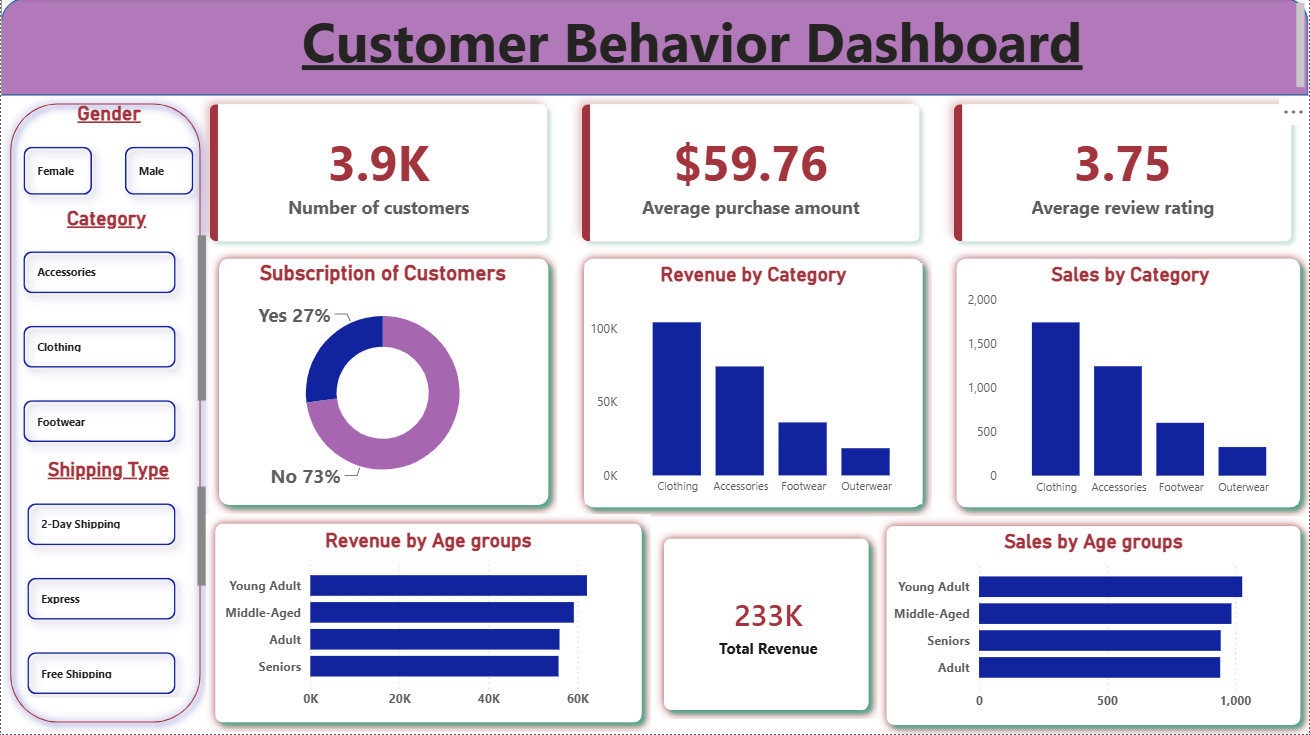

The dashboard page shown, as its layout file describes it:
{"tool":"powerbi","page":{"name":"Page 1","canvas":[1280,720],"ordinal":0},"visuals":[{"type":"cardVisual","fields":{"Data":["public customer.Number of customers","public customer.Average purchase amount","public customer.Average review rating"]},"box":[182.9,82.6,1097.4,176.5],"z":0},{"type":"shape","box":[0,0,1279,95.3],"z":1000},{"type":"shape","box":[925.9,246.4,354.4,261.6],"z":2000},{"type":"clusteredColumnChart","title":"Sales by Category","fields":{"Category":["public customer.category"],"Y":["CountNonNull(public customer.customer_id)"]},"box":[939.9,259.1,329,236.2],"z":3000},{"type":"shape","box":[561.4,246.4,349.3,261.6],"z":4000},{"type":"shape","box":[204.5,246.4,340.4,259.1],"z":5000},{"type":"clusteredColumnChart","title":"Revenue by Category","fields":{"Category":["public customer.category"],"Y":["Sum(public customer.purchase_amount)"]},"box":[571.1,259.2,330.2,236],"z":6000},{"type":"donutChart","title":"Subscription of Customers","fields":{"Category":["public customer.subscription_status"],"Y":["CountNonNull(public customer.customer_id)"]},"box":[216.4,256.8,314.3,236],"z":7000},{"type":"shape","box":[0,94.2,204.2,623.6],"z":8000},{"type":"advancedSlicerVisual","title":"Gender","fields":{"Values":["public customer.gender"]},"box":[1.2,101.5,209.1,112.5],"z":10000},{"type":"advancedSlicerVisual","title":"Category","fields":{"Values":["public customer.category"]},"box":[6.1,204.2,194.4,245.8],"z":11000},{"type":"advancedSlicerVisual","title":"Shipping Type","fields":{"Values":["public customer.shipping_type"]},"box":[9.8,450,190.8,234.8],"z":12000},{"type":"textbox","box":[0,0,1280.3,95.3],"z":13000},{"type":"shape","box":[200.5,505,435.3,212.8],"z":14000},{"type":"shape","box":[857.2,507.5,423.1,212.8],"z":15000},{"type":"clusteredBarChart","title":"Revenue by Age groups","fields":{"Y":["Sum(public customer.purchase_amount)"],"Category":["public customer.age_group"]},"box":[212.8,519.7,410.9,184.6],"z":16000},{"type":"shape","box":[639.2,520,218.2,185.7],"z":17000},{"type":"clusteredBarChart","title":"Sales by Age groups","fields":{"Y":["CountNonNull(public customer.purchase_amount)"],"Category":["public customer.age_group"]},"box":[867,520.9,403.5,184.6],"z":18000},{"type":"cardVisual","title":"Total Reviews","fields":{"Data":["Sum(public customer.purchase_amount)"]},"box":[656.3,532.4,188.8,164.1],"z":19000}]}

Visuals, with their boxes in screenshot pixels (x1, y1, x2, y2), scaled from the page's 1280x720 canvas onto the 1310x735 screenshot:
cardVisual - public customer.Number of customers x public customer.Average purchase amount: 187 84 1309 264
shape: 0 0 1309 97
shape: 948 252 1309 519
"Sales by Category" clusteredColumnChart: 962 264 1299 506
shape: 575 252 932 519
shape: 209 252 558 516
"Revenue by Category" clusteredColumnChart: 584 265 922 506
"Subscription of Customers" donutChart: 221 262 543 503
shape: 0 96 209 733
"Gender" advancedSlicerVisual: 1 104 215 218
"Category" advancedSlicerVisual: 6 208 205 459
"Shipping Type" advancedSlicerVisual: 10 459 205 699
textbox: 0 0 1309 97
shape: 205 516 651 733
shape: 877 518 1309 734
"Revenue by Age groups" clusteredBarChart: 218 531 638 719
shape: 654 531 877 720
"Sales by Age groups" clusteredBarChart: 887 532 1300 720
"Total Reviews" cardVisual: 672 543 865 711
